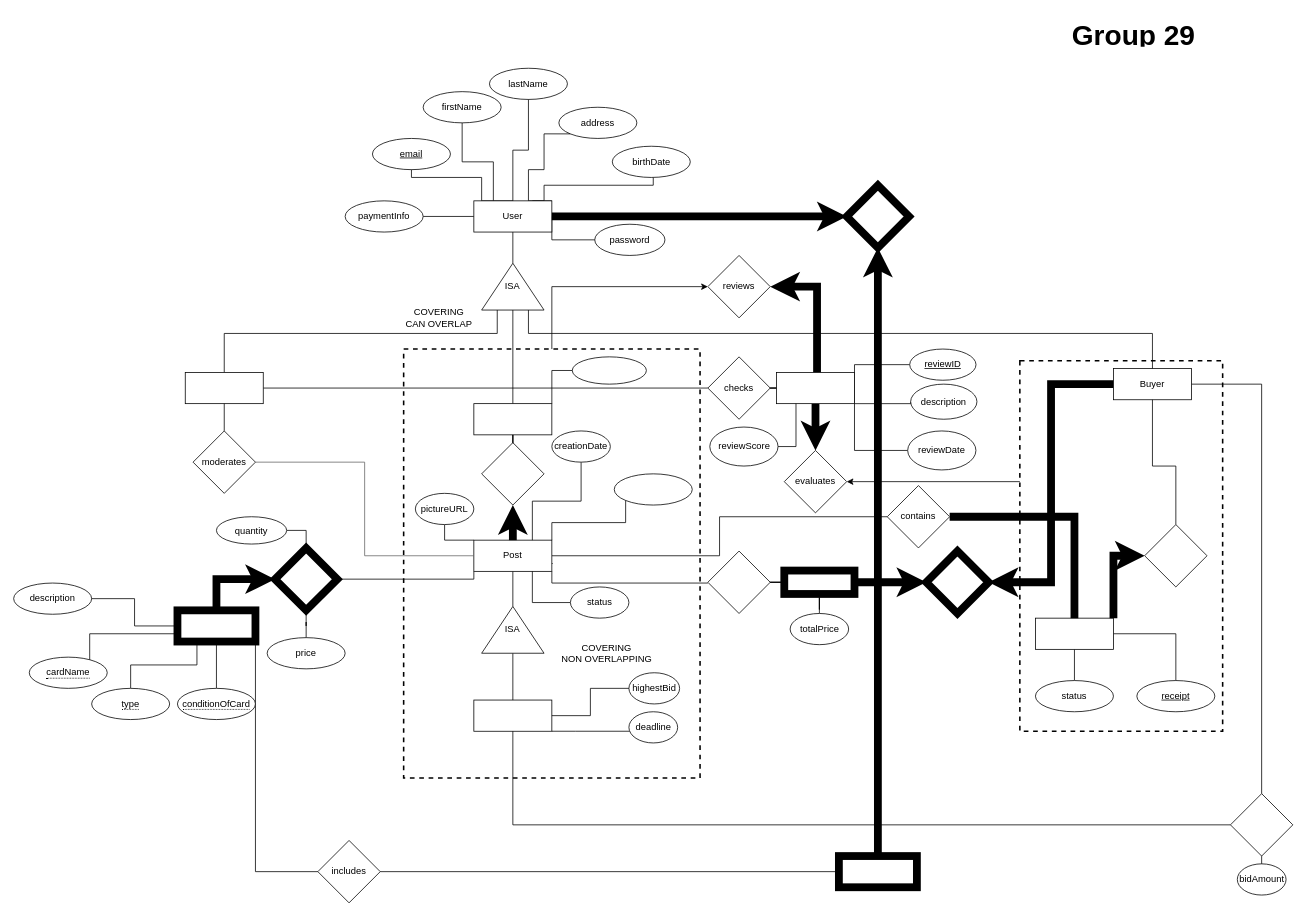
This 1307x916 diagram has some shape labels left out. The shapes that lost their labels are listed below. From the top down, each one's centre as x and y in pixels, then its label:
(877,216): owns
(223,388): Admin
(609,370): reputation
(815,388): Review
(512,419): Seller
(512,473): publishes
(652,489): postID
(1175,555): orders
(306,579): promotes
(738,581): belongs
(819,581): CART
(957,582): has
(216,625): Card
(1074,633): Order
(512,715): Auction
(1261,824): bids
(877,871): Wishlist
